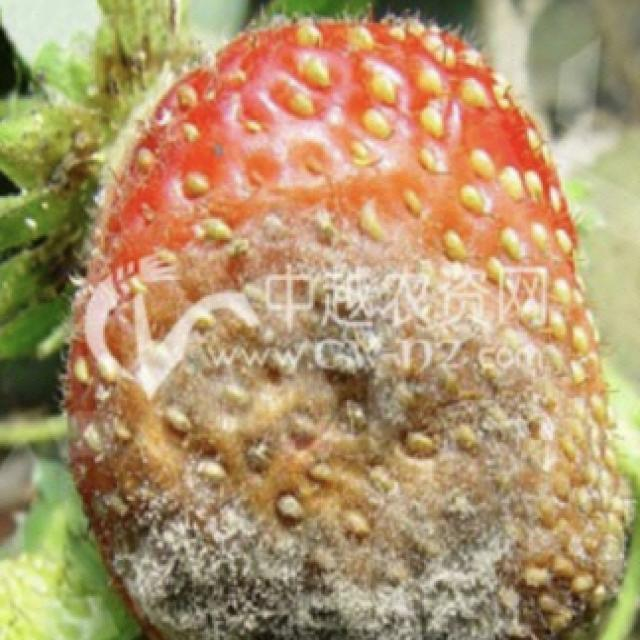Gray Mold: (61, 12, 640, 640)
